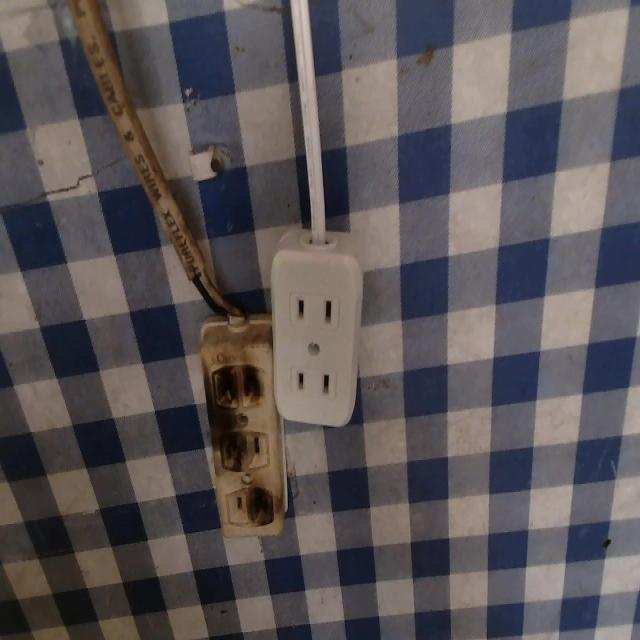-: (199, 356, 267, 412), (208, 427, 250, 482), (242, 481, 277, 536)
